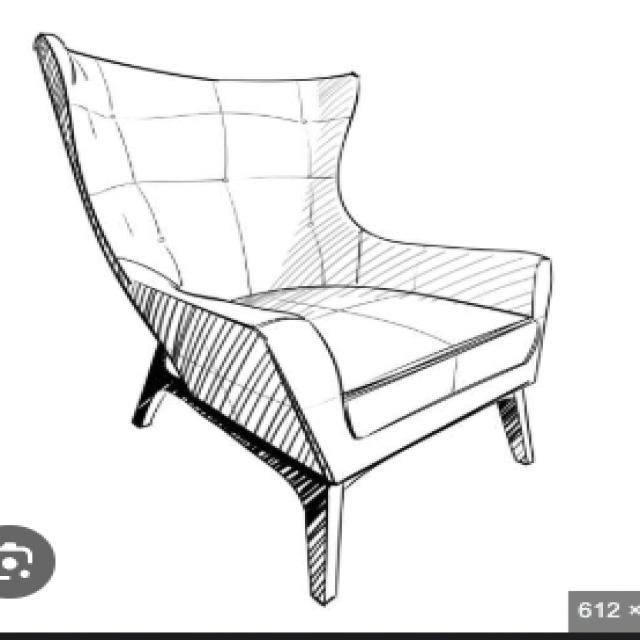Armrest: (106, 256, 358, 485), (355, 225, 557, 326)
Backrest: (73, 48, 325, 300)
Leg_Structure: (122, 336, 541, 614)
Seat: (221, 281, 544, 443)
Wing_Flange: (28, 27, 182, 286), (298, 70, 365, 288)
